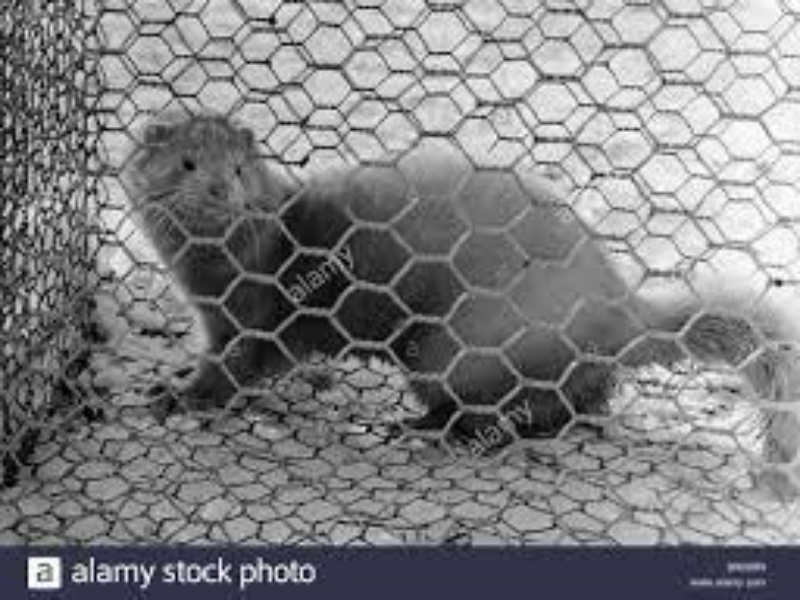minkish: (131, 106, 798, 494)
